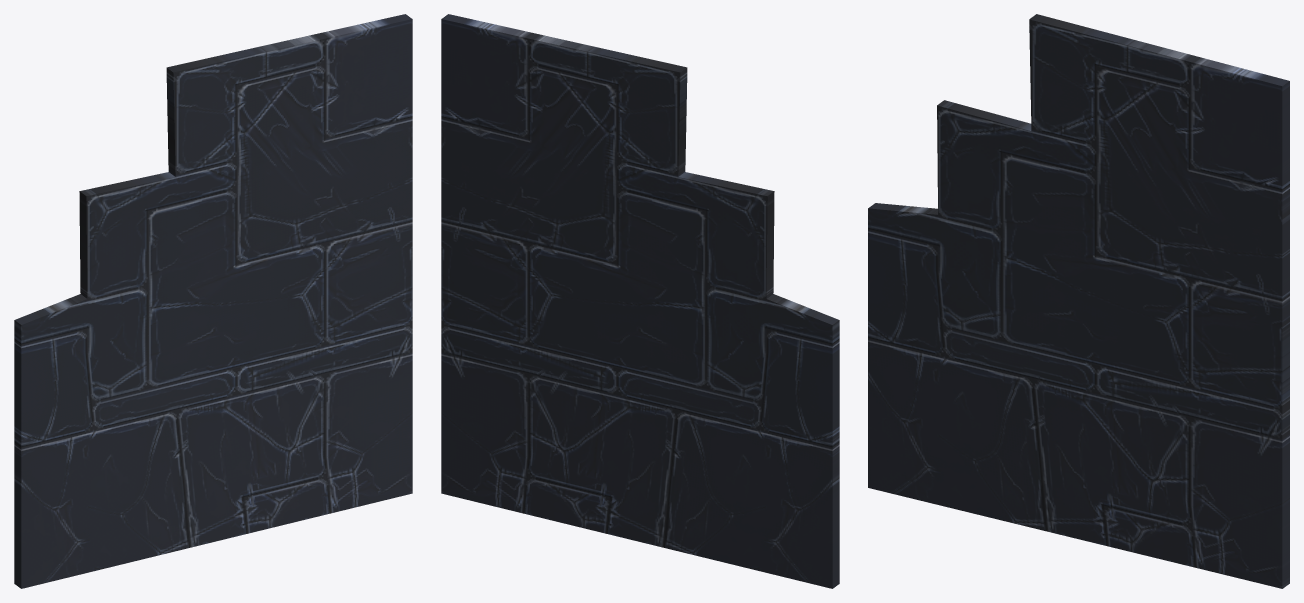
Rendered from LunarYearTile_Art.fbx.
The picture shows the model from 3 angles, left to right: view 1: azimuth 30°, elevation 25°; view 2: azimuth 150°, elevation 25°; view 3: azimuth 330°, elevation 25°; orthographic projection. The views are drawn at different scales.
Parts seen in each view (by area): view 1: LunarYearTile_Art; view 2: LunarYearTile_Art; view 3: LunarYearTile_Art.
Boxes of the visible parts, x1=… form: LunarYearTile_Art: x1=14, y1=14, x2=412, y2=588; LunarYearTile_Art: x1=441, y1=14, x2=839, y2=588; LunarYearTile_Art: x1=868, y1=14, x2=1289, y2=588.
Bounding box in the file's own units: 2.24 × 2.63 × 0.0692.
